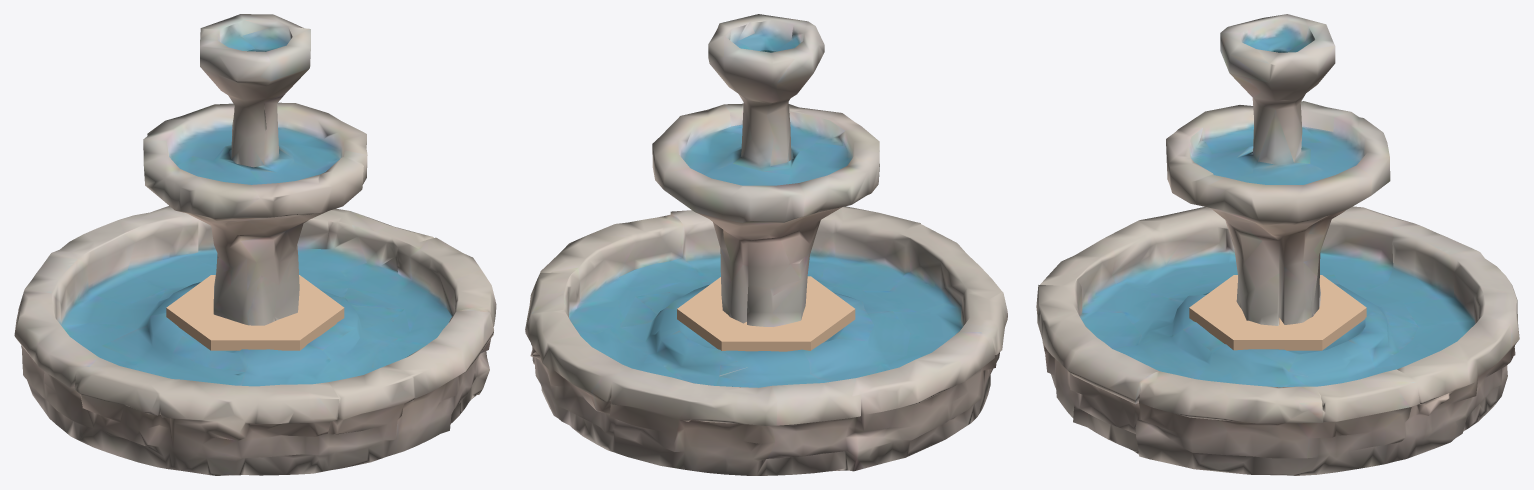
File: court.glb
The picture shows the model from 3 angles, left to right: view 1: azimuth 30°, elevation 25°; view 2: azimuth 150°, elevation 25°; view 3: azimuth 270°, elevation 25°; orthographic projection.
Parts seen in each view (by area): view 1: tripo_node_134cbaaf-4670-4825-8cd4-f59d113f9bf5, tableRound(Clone); view 2: tripo_node_134cbaaf-4670-4825-8cd4-f59d113f9bf5, tableRound(Clone); view 3: tripo_node_134cbaaf-4670-4825-8cd4-f59d113f9bf5, tableRound(Clone).
Part boxes in pixels (x1,y1,x2,y2): tripo_node_134cbaaf-4670-4825-8cd4-f59d113f9bf5: [14, 14, 496, 475]; tableRound(Clone): [166, 275, 344, 350]; tripo_node_134cbaaf-4670-4825-8cd4-f59d113f9bf5: [525, 14, 1007, 475]; tableRound(Clone): [677, 276, 855, 351]; tripo_node_134cbaaf-4670-4825-8cd4-f59d113f9bf5: [1036, 14, 1519, 475]; tableRound(Clone): [1189, 275, 1366, 350].
Size of the model in its own units: 4.4 by 3.51 by 4.45.
Materials: 2 (1 with a texture image).
